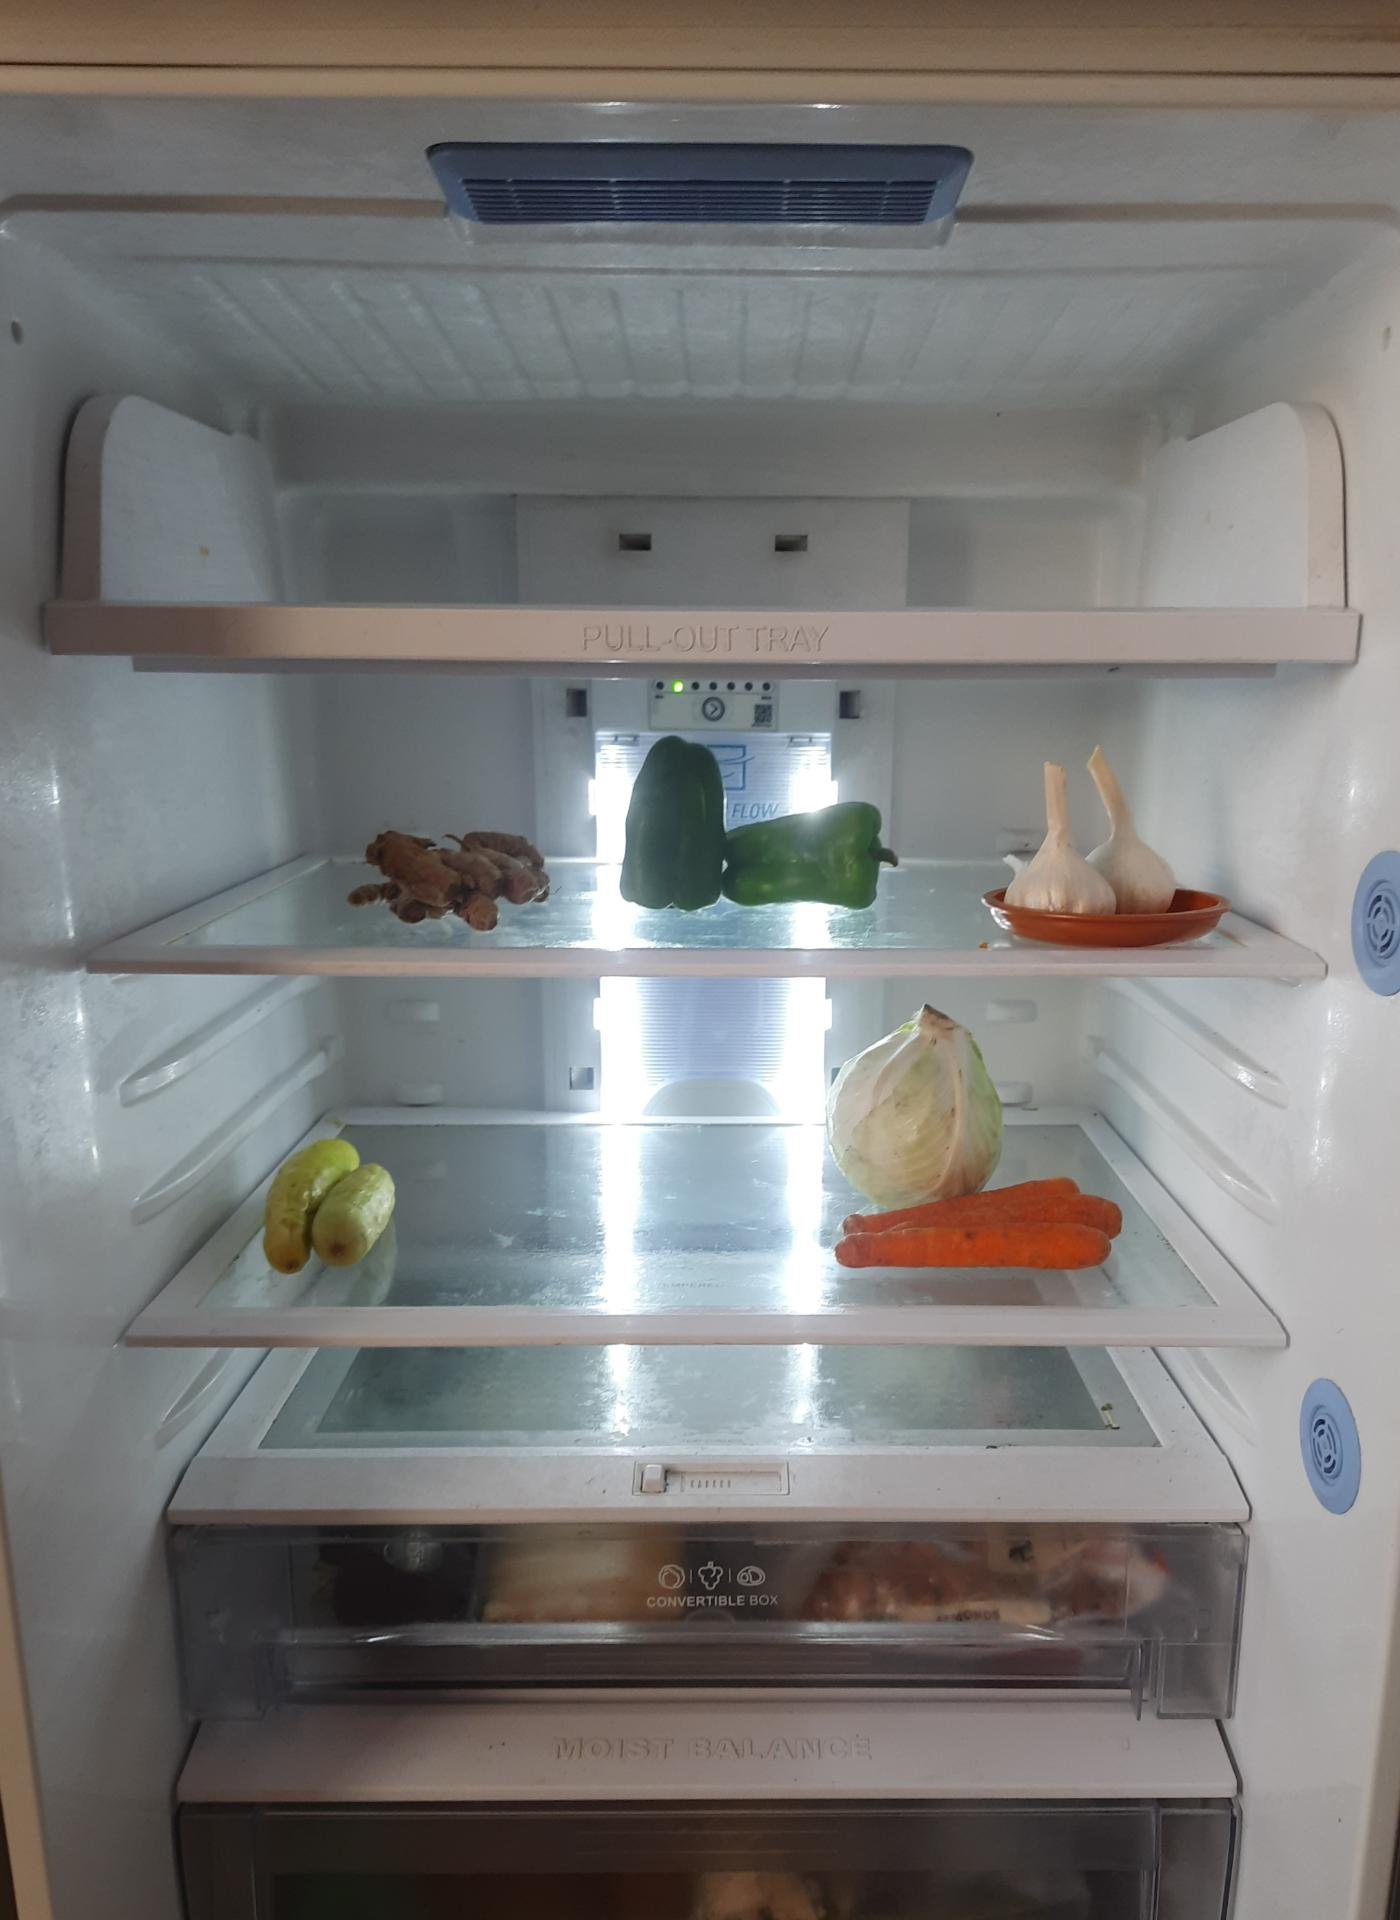cabbage: (823, 1002, 1002, 1178)
capsicum: (620, 739, 892, 902)
carrots: (835, 1184, 1123, 1275)
cucumber: (270, 1122, 394, 1278)
garlic: (1012, 747, 1151, 918)
ginger: (344, 820, 552, 932)
